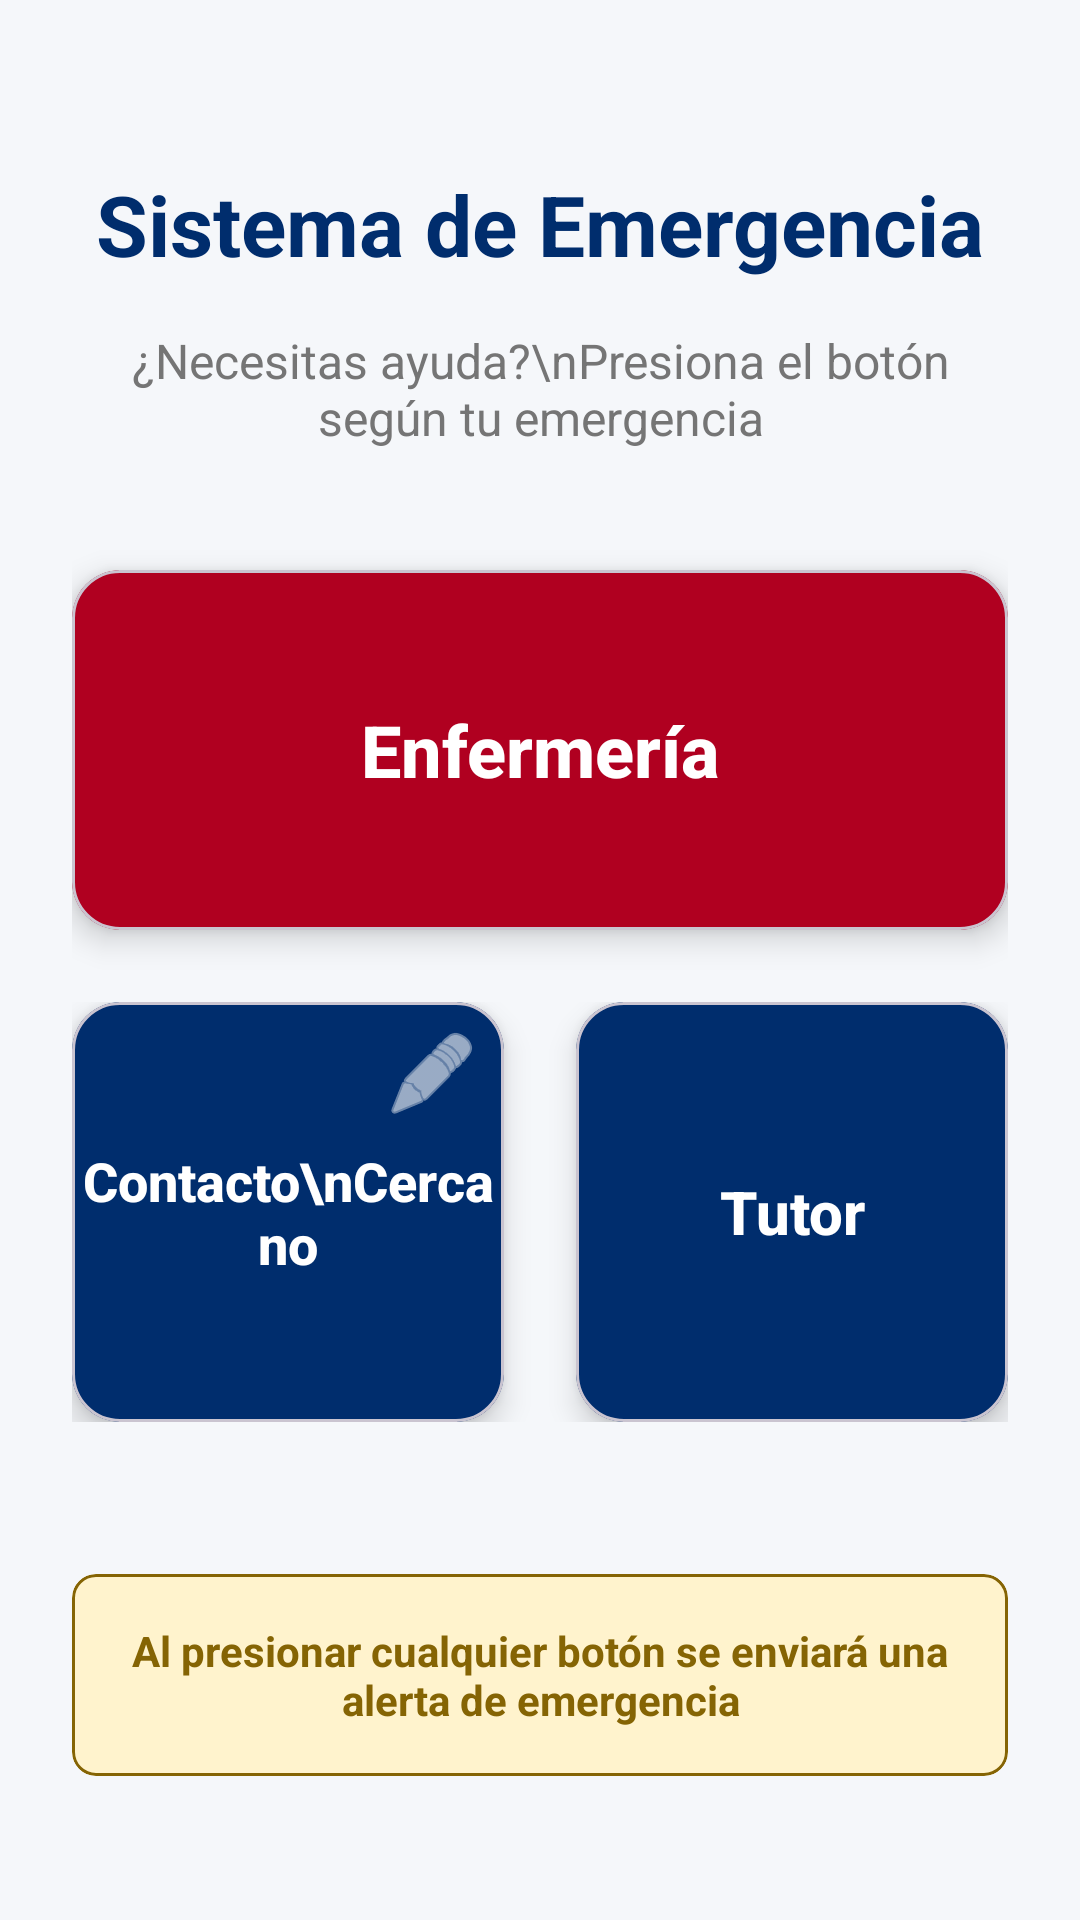

Named icons in this screenshot (1080px×1920px) and their centers, point (x, y):
Editar contactos: point (432, 1074)
